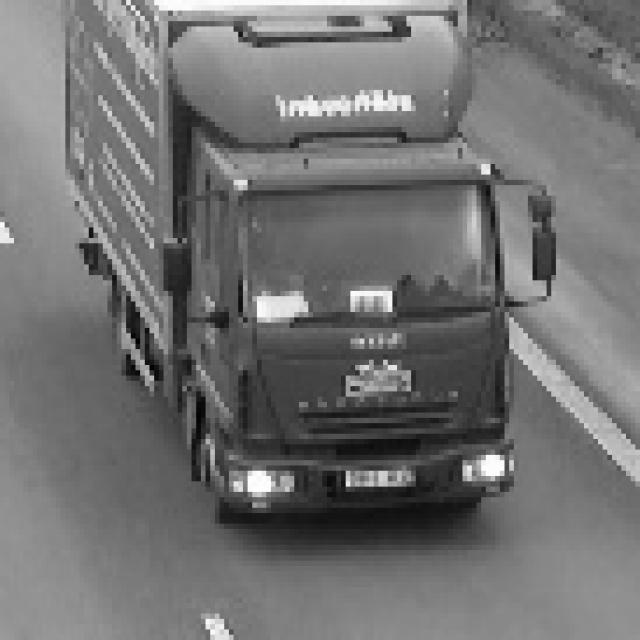truck: (146, 114, 557, 525)
